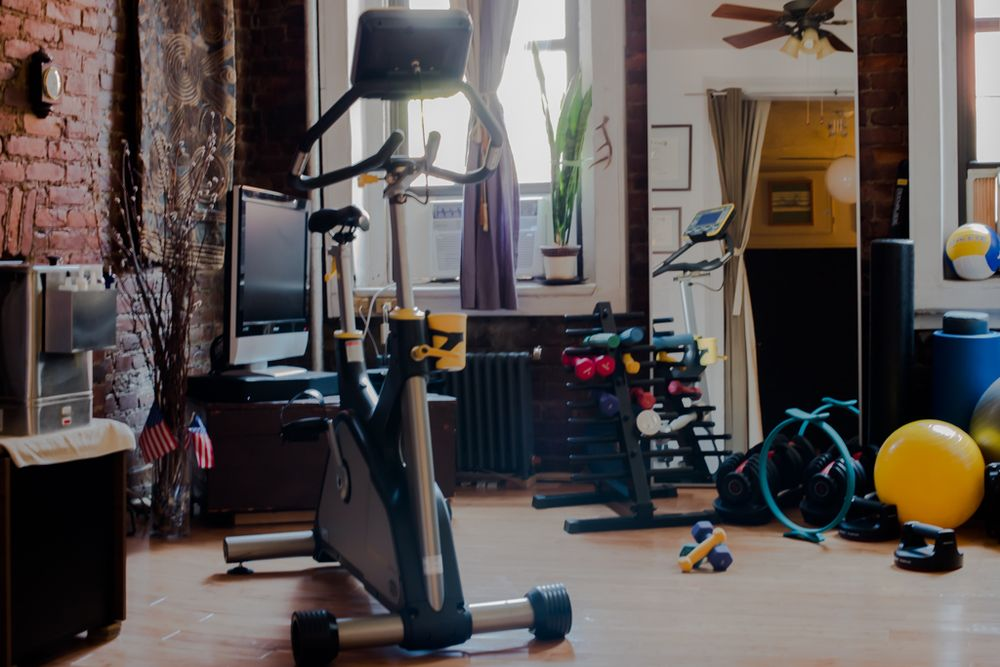gym_bike: (211, 24, 579, 662)
